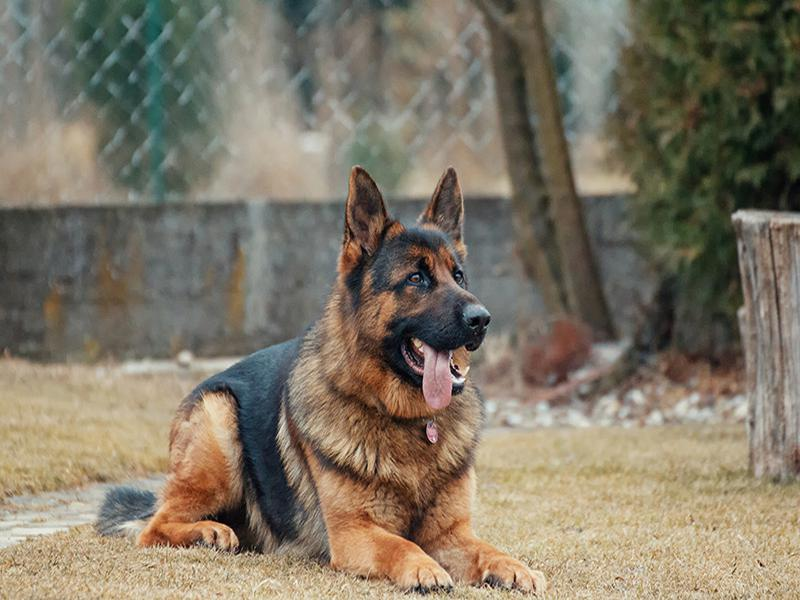dog_down: (92, 162, 544, 598)
